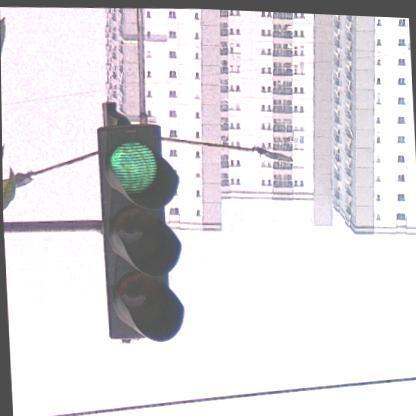green: (95, 122, 181, 342)
